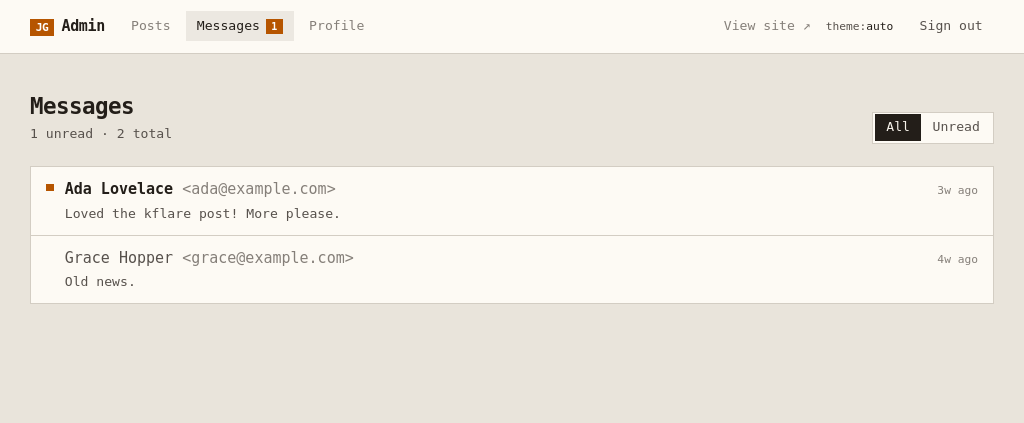
Test: admin messages inbox › deletes after confirmation
Step 1. Click the button "Grace Hopper <grace@example.com> 4w ago Old news." → (119, 258), box left=31, top=236, right=993, bottom=303
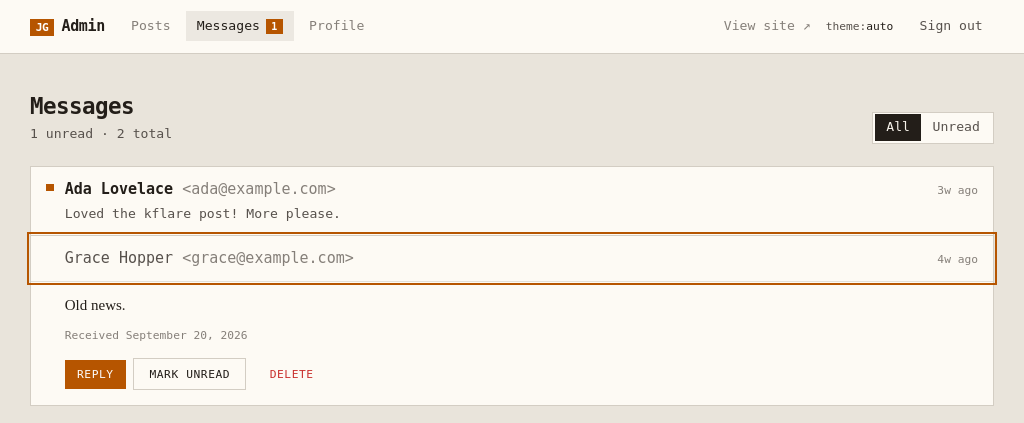
Step 2. Click the button with aria-label "Delete message from Grace Hopper" → (292, 374), box left=254, top=358, right=330, bottom=390
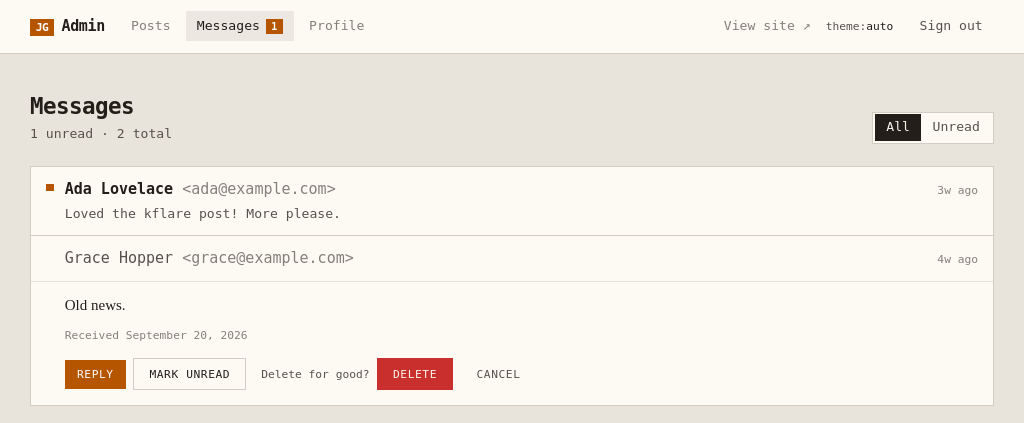
Step 3. Click the button "Delete" → (415, 374), box left=377, top=358, right=453, bottom=390
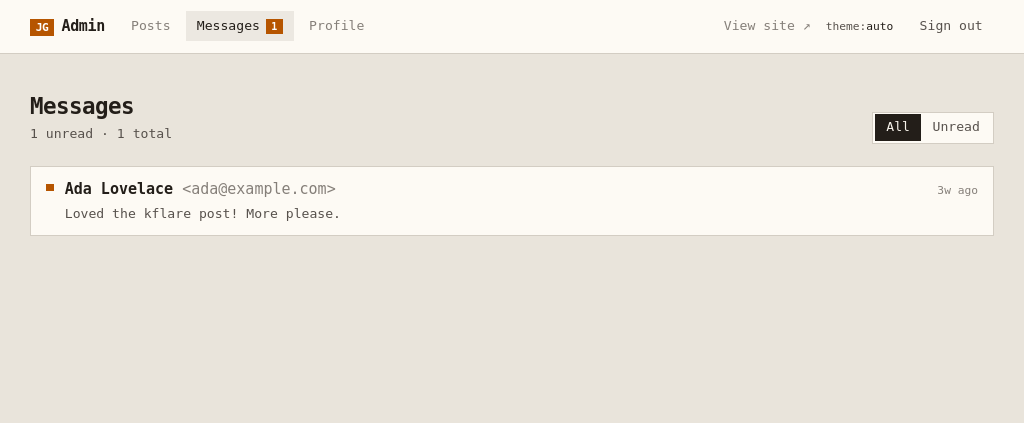
Now the button "Grace Hopper" is gone
